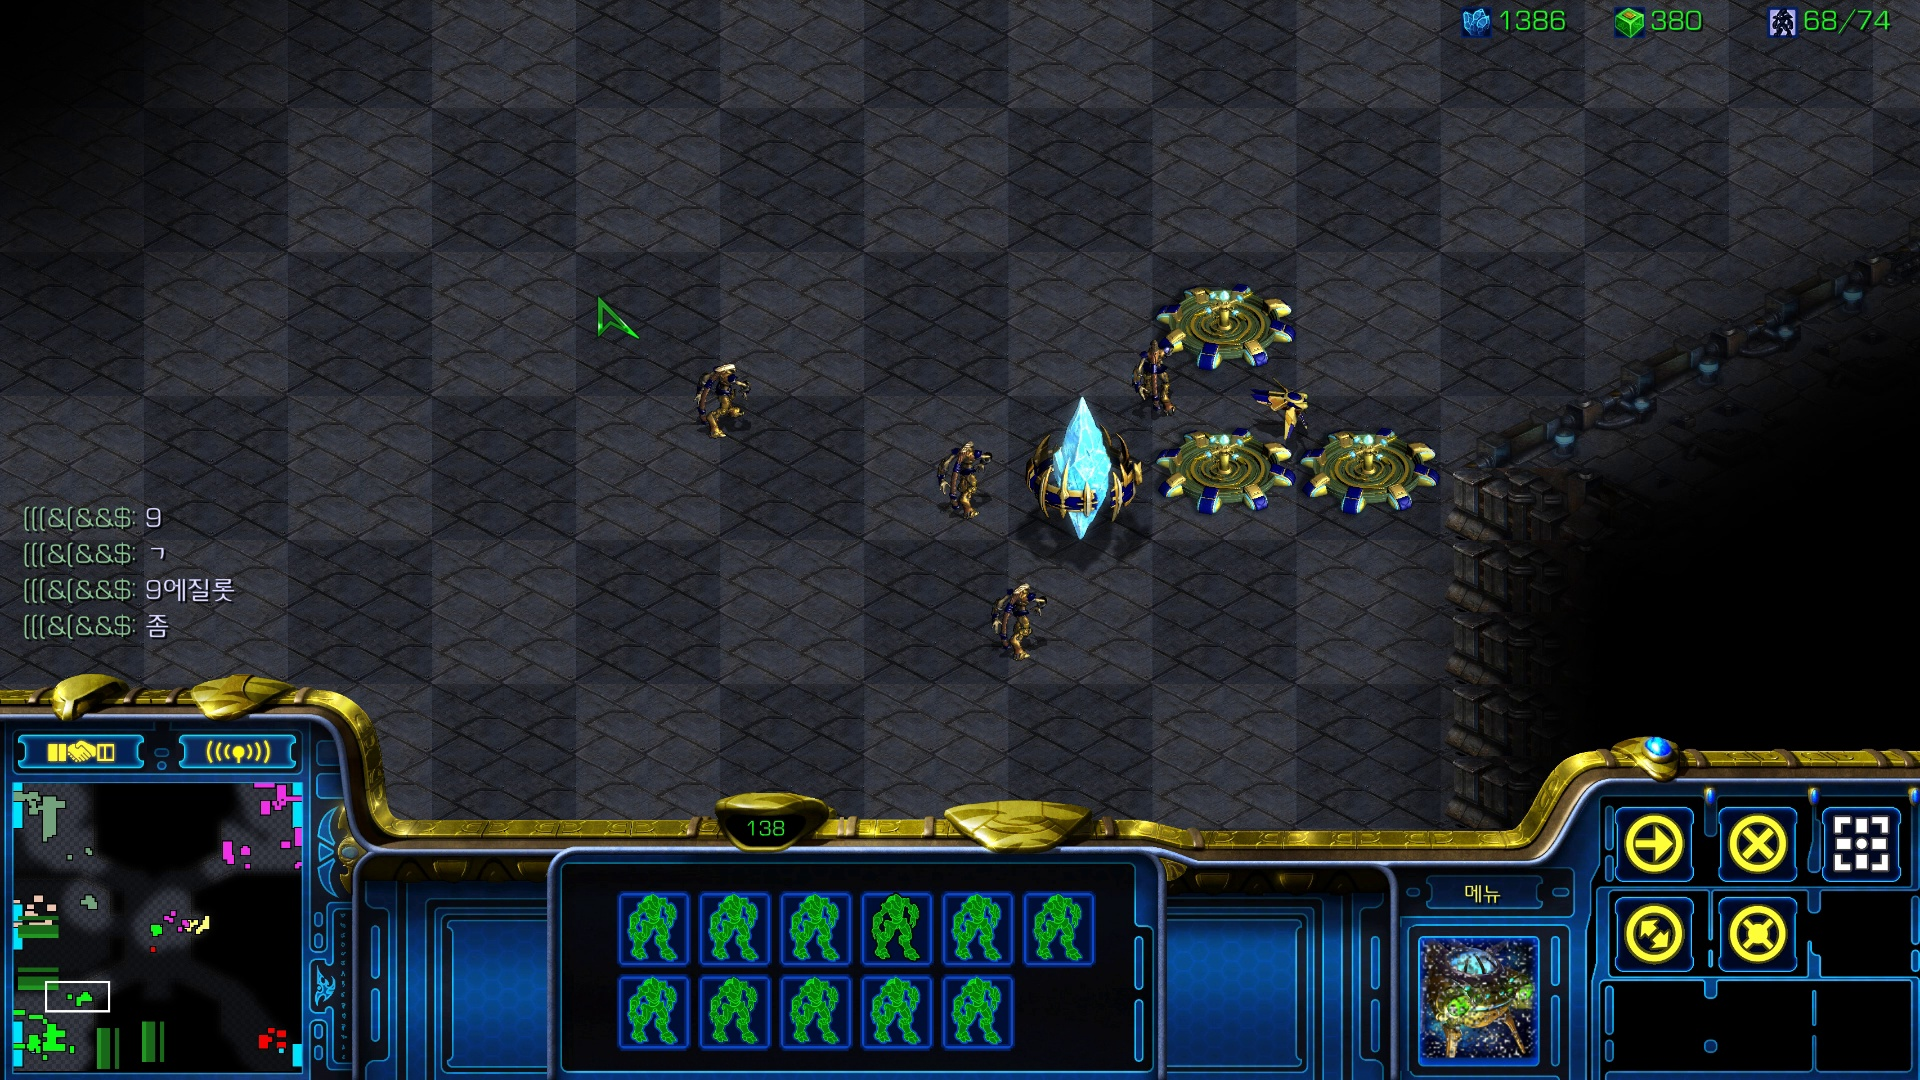zilot: (928, 434, 1000, 531), (982, 578, 1058, 670), (683, 357, 756, 451), (1117, 336, 1191, 421)
